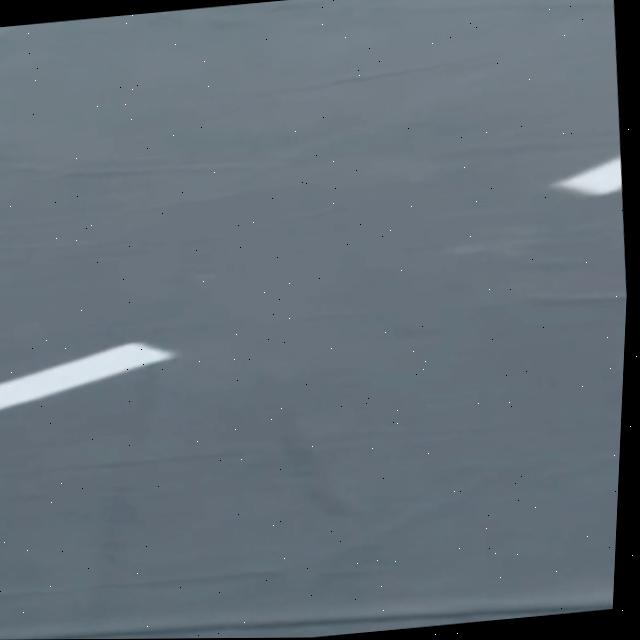center: (0, 342, 174, 408), (551, 155, 622, 195)
